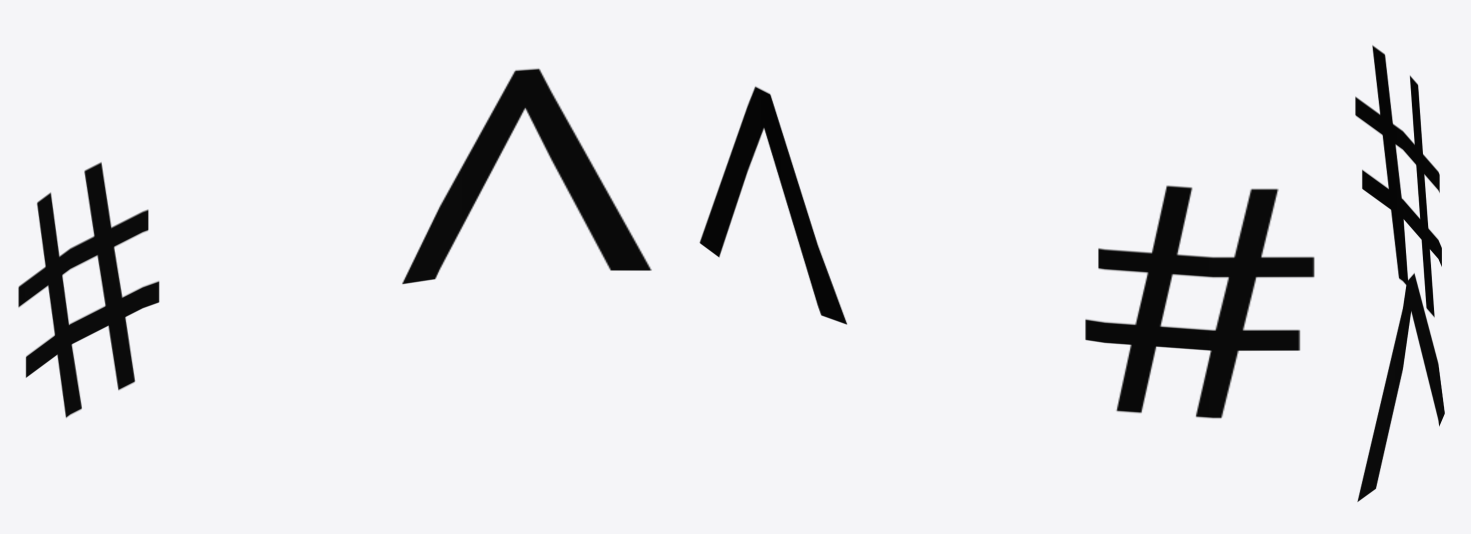
The model's file is 25-vampire-face-eyes.glb.
3 renders of one model, left to right at view 1: azimuth 30°, elevation 25°; view 2: azimuth 150°, elevation 25°; view 3: azimuth 270°, elevation 25°, orthographic. The views are drawn at different scales.
Parts seen in each view (by area): view 1: 25-vampire-face-eyes; view 2: 25-vampire-face-eyes; view 3: 25-vampire-face-eyes.
Boxes of the visible parts, <box> form: 25-vampire-face-eyes: <box>18,68,651,417</box>; 25-vampire-face-eyes: <box>699,86,1314,418</box>; 25-vampire-face-eyes: <box>1355,45,1444,501</box>.
Bounding box in the file's own units: 0.6958 × 0.4126 × 0.1079.
3 materials, 3 textured.
